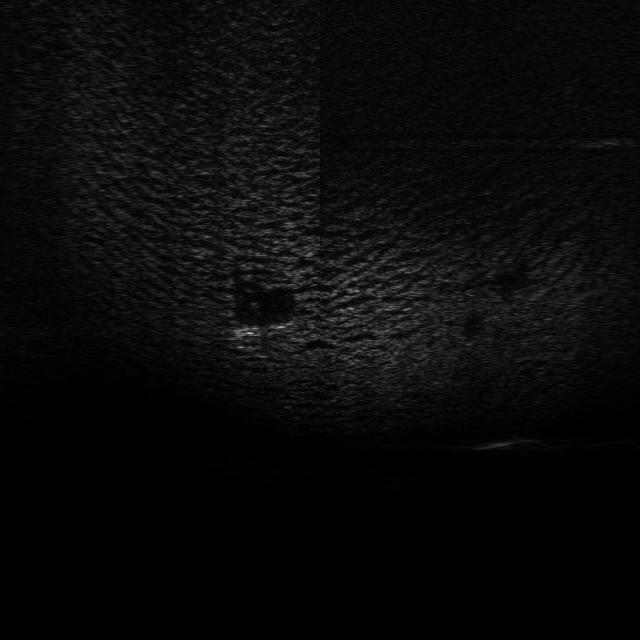plane: (228, 318, 293, 344)
